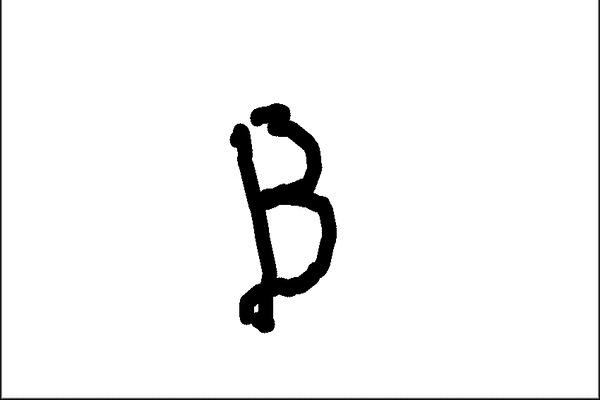B: (211, 94, 347, 340)
